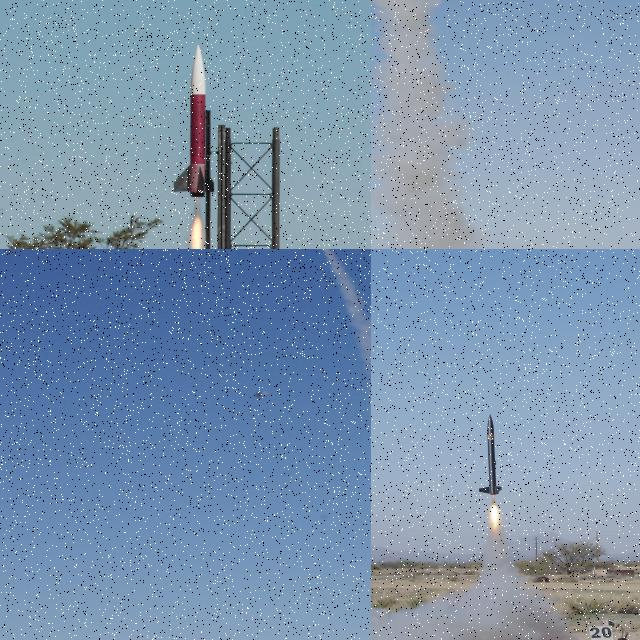Rocket: (172, 42, 216, 199), (478, 414, 503, 496)
